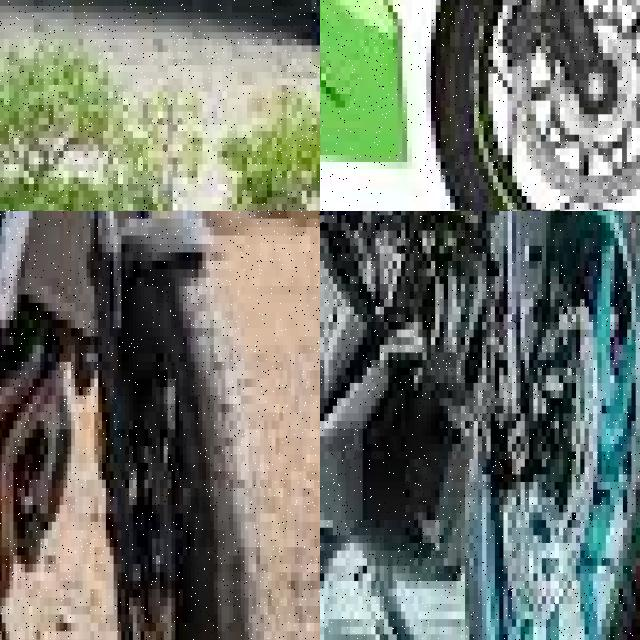bike: (320, 211, 640, 640), (0, 211, 279, 640), (320, 0, 640, 211)
car: (0, 0, 320, 58)
